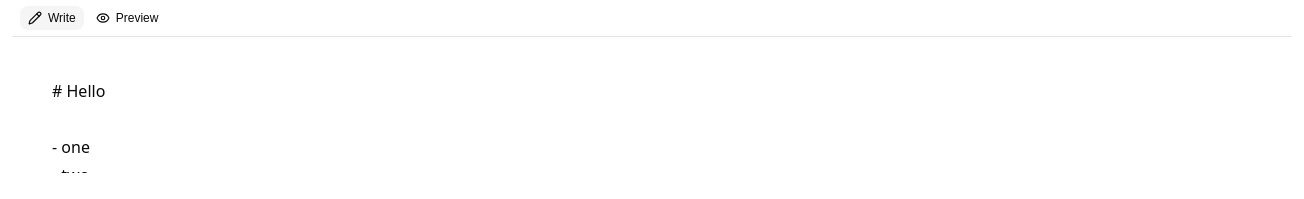
Scenario: MarkdownEditor › renders a read-only preview when Preview is chosen
The image size is (1304, 199).
Click the button "Preview" at (127, 18), box [88,6,166,30]
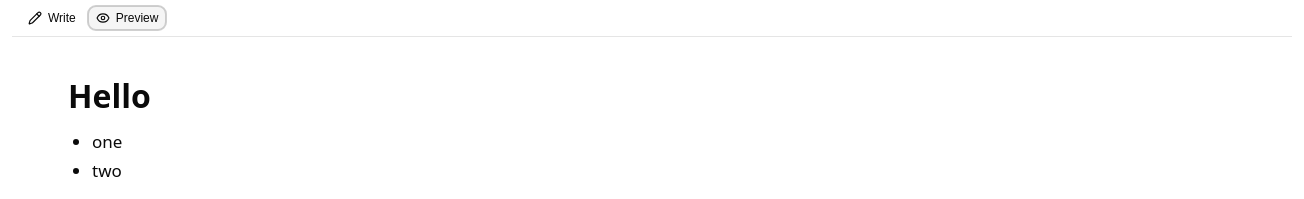
Result: the heading "Hello" is shown at [68,74,151,117]
Result: the number of list items is 2 at [92,130,122,153]; [92,159,122,182]
